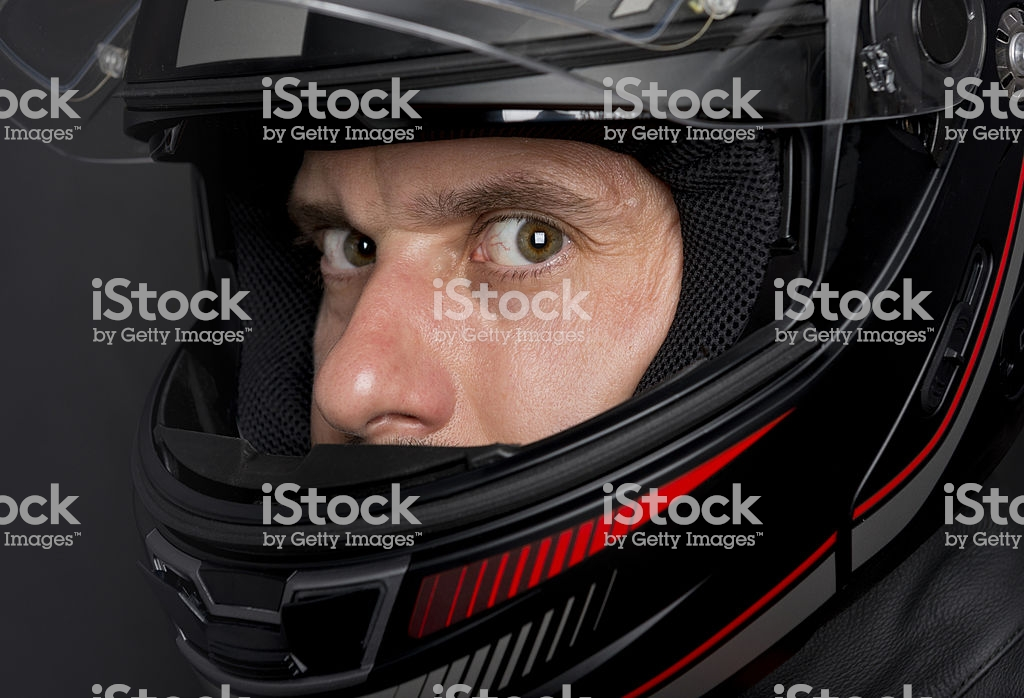helmet: (111, 9, 1001, 687)
